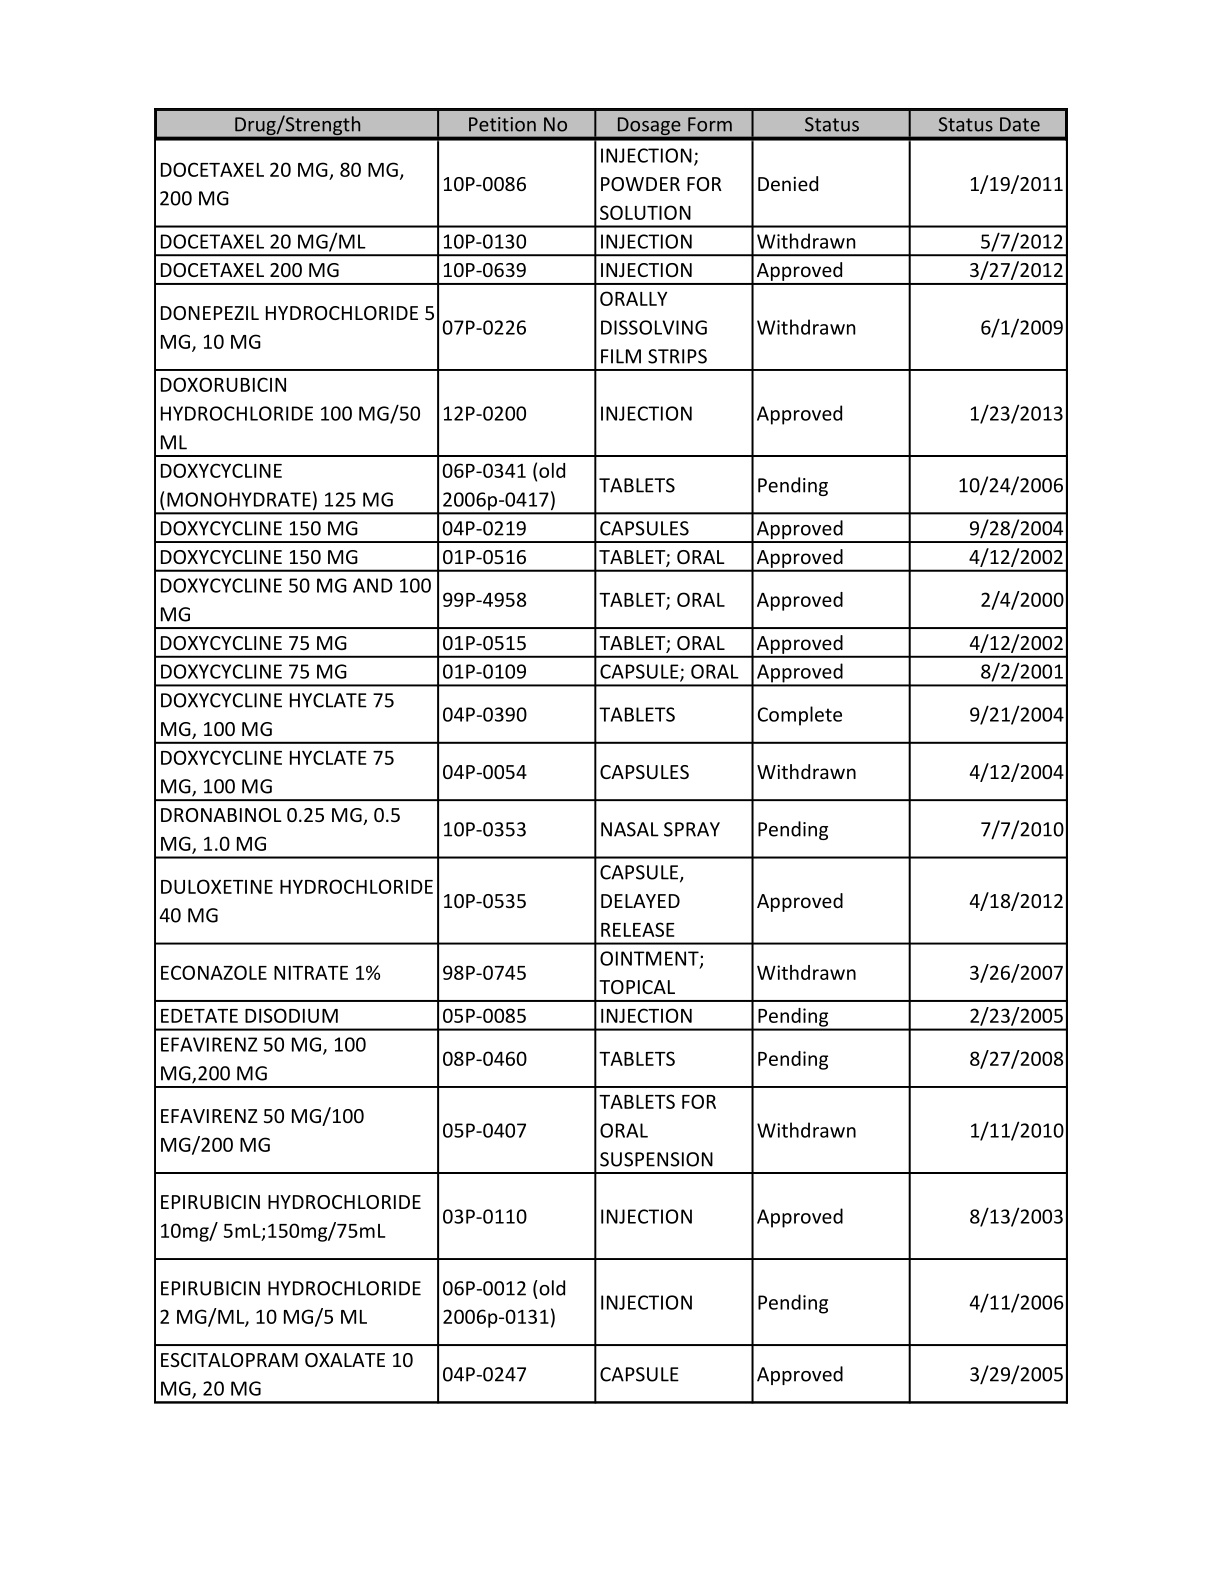full_lined: (147, 102, 1077, 1413)
